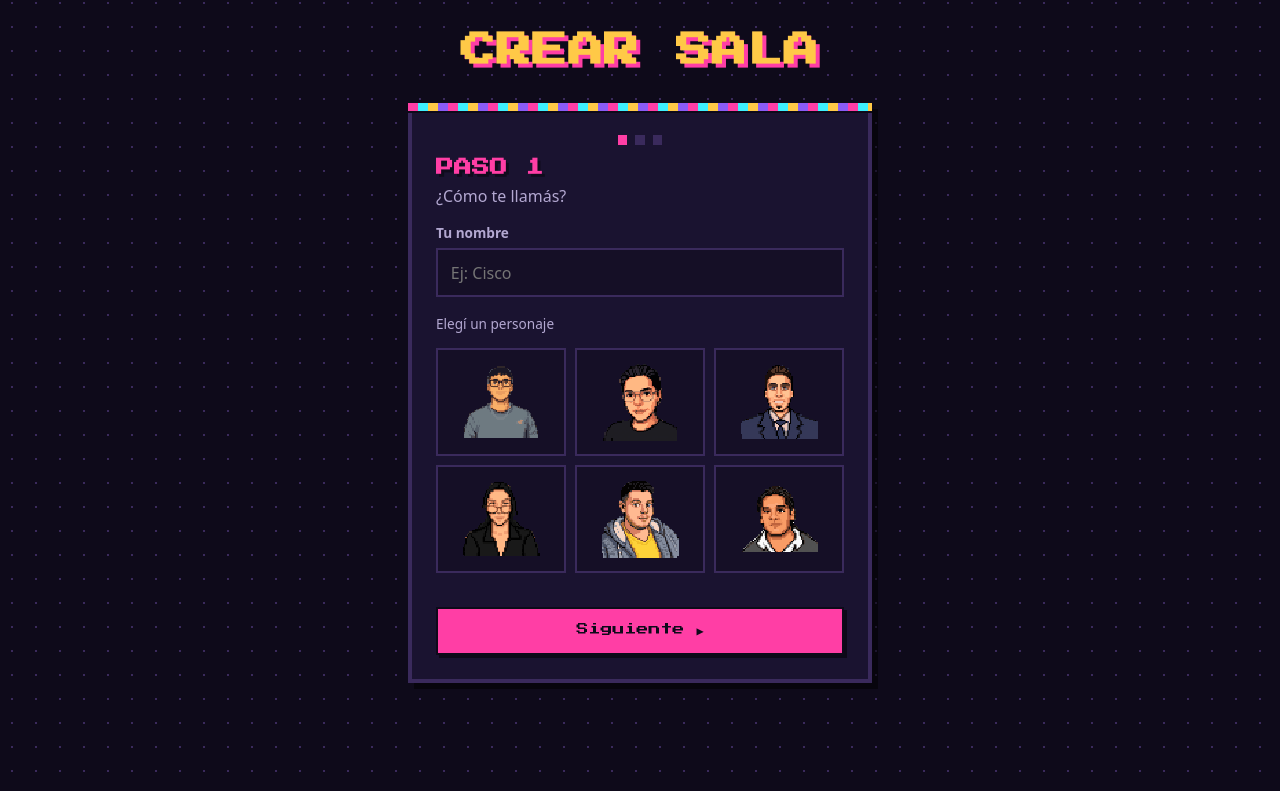
Test: CreateRoomPage — formulario no envía vacío › avanza al paso 3 (estrellas) desde el paso de duraciones
Type "Cisco" into the field labelled "Tu nombre" at (640, 273), box [436,248,844,297]
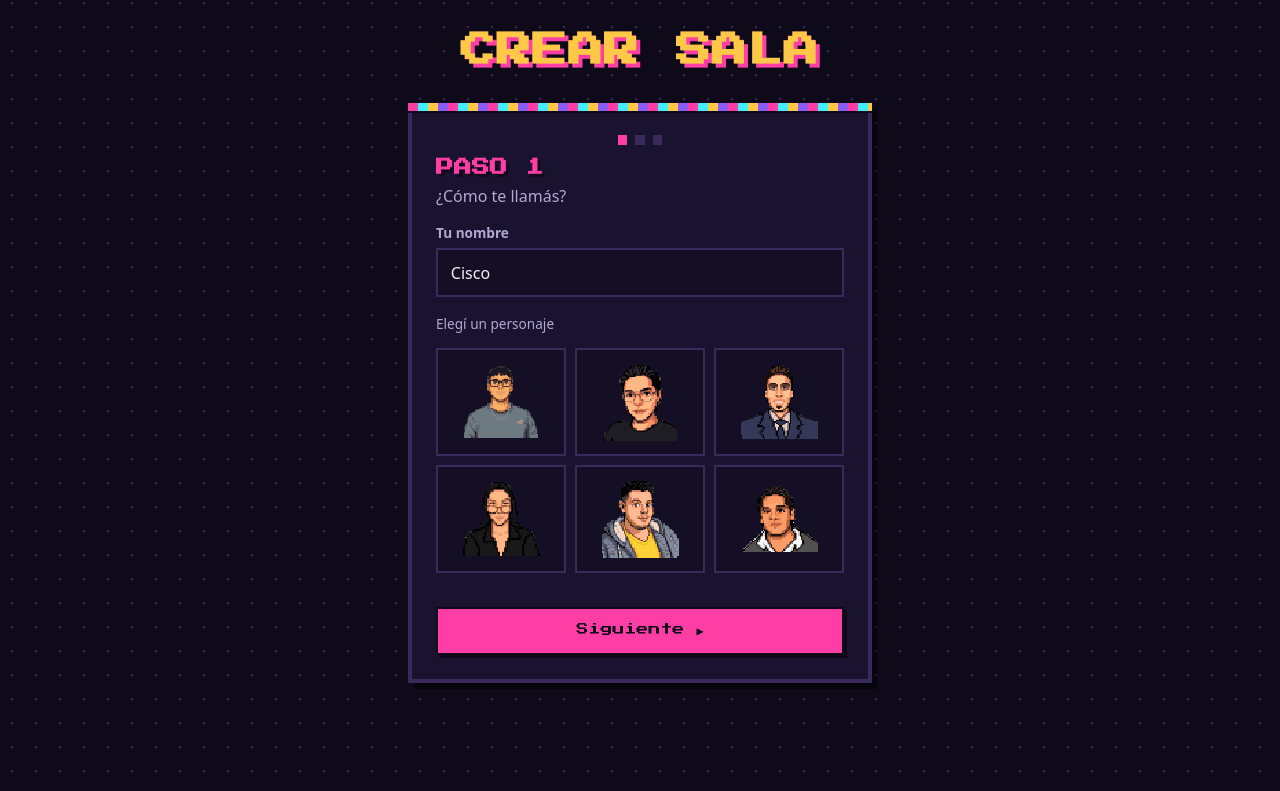
Click the button named "Cisco" at (501, 402), box [436,348,566,456]
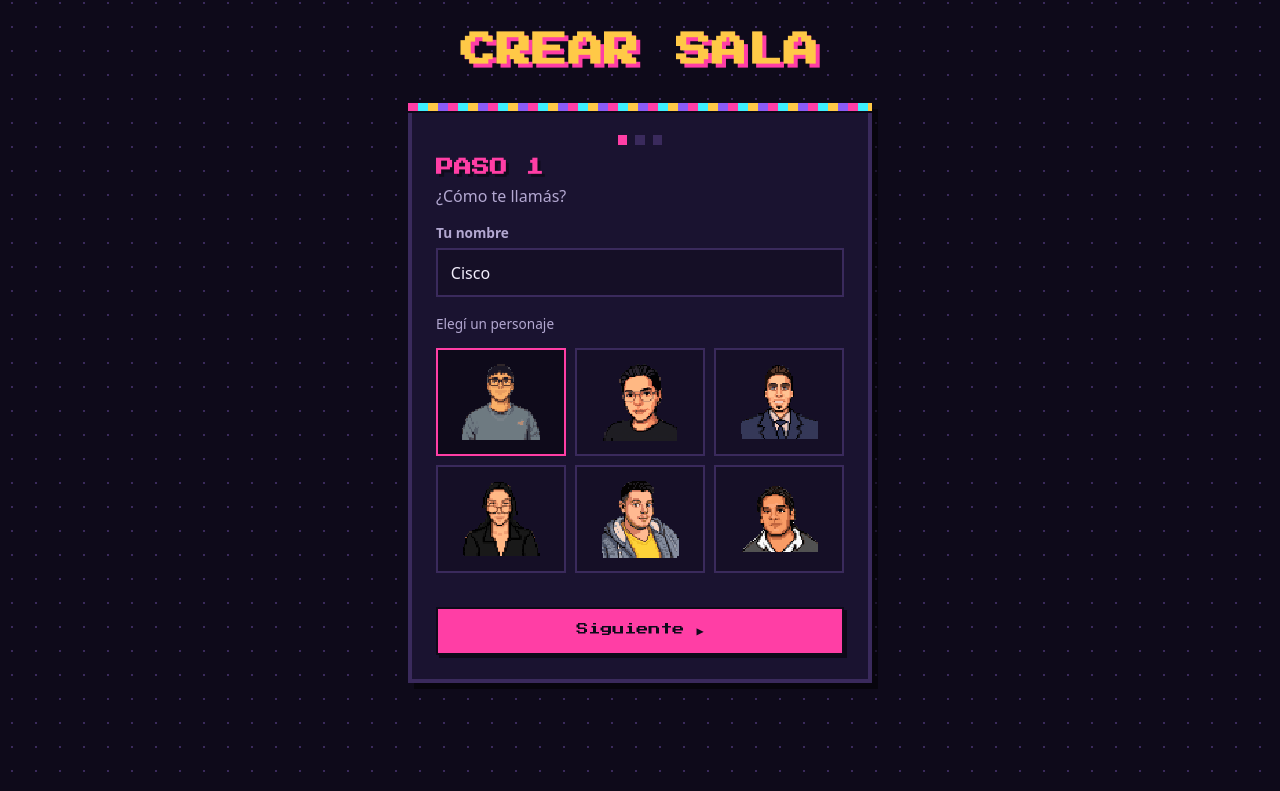
Click the button "Siguiente ▶" at (640, 631), box [436,607,844,655]
(page scrolled)
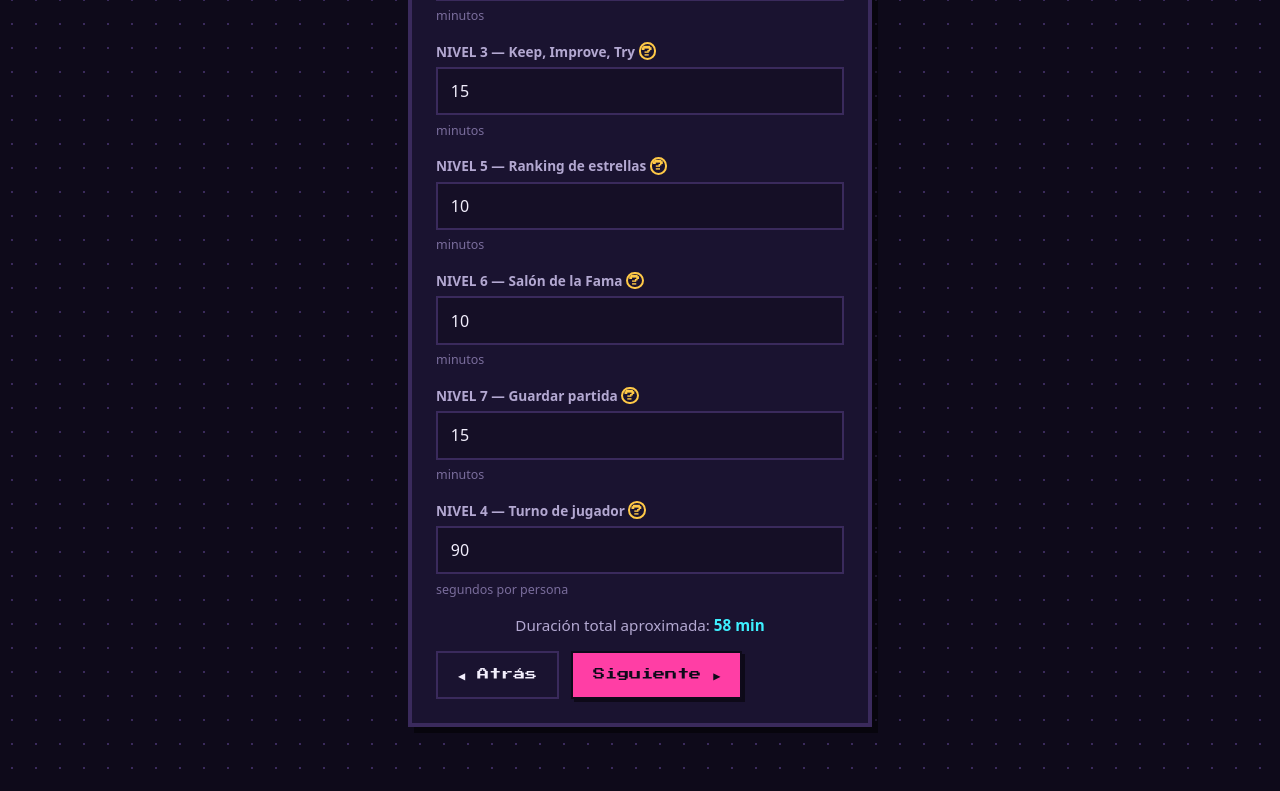
Click the button "Siguiente ▶" at (657, 675), box [571,651,742,699]
(page scrolled)
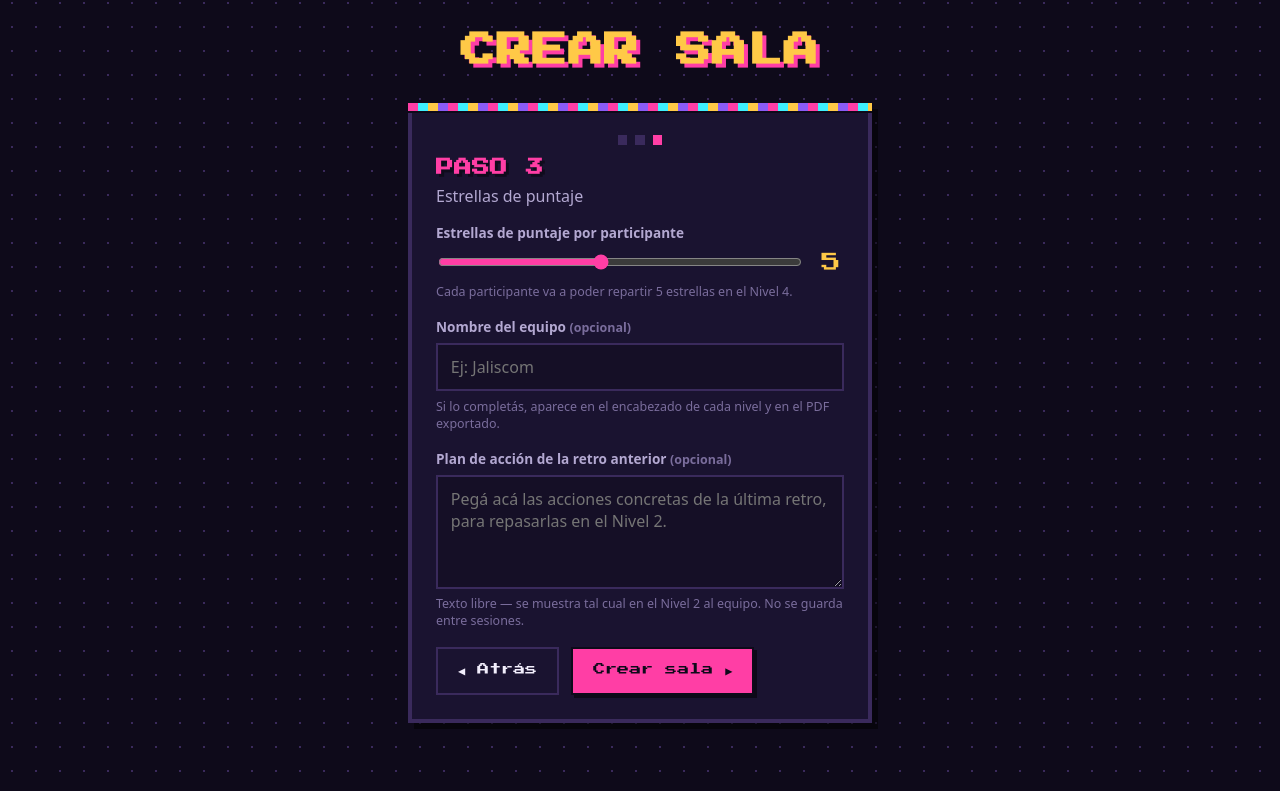
Expected: the heading "PASO 3" is shown, [436,158,544,176]
Expected: the slider is shown, [438,250,802,274]
